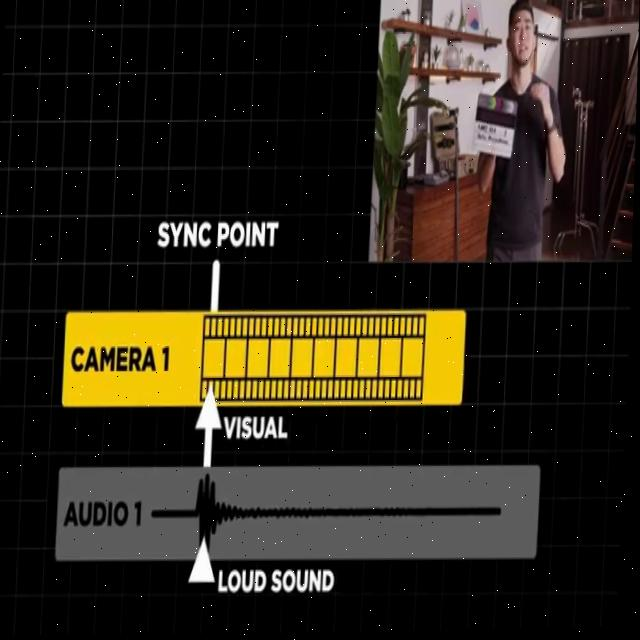Clapperboard: (472, 93, 519, 161)
